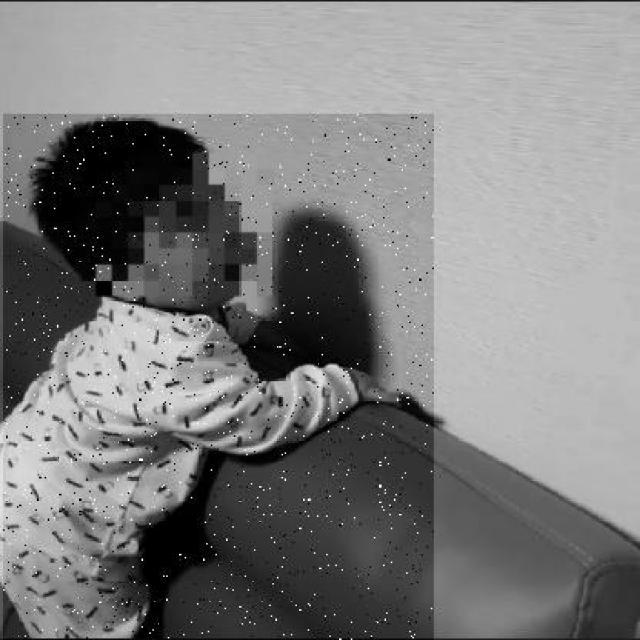child: (2, 114, 433, 640)
